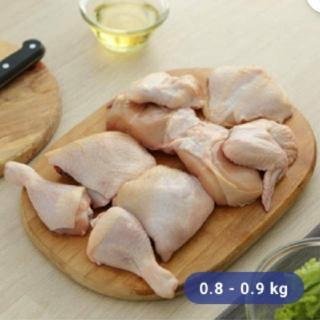Ayam: (4, 63, 301, 302), (111, 163, 218, 265), (42, 130, 159, 213), (86, 206, 182, 303), (221, 117, 301, 216), (4, 160, 97, 239), (201, 64, 297, 130)
